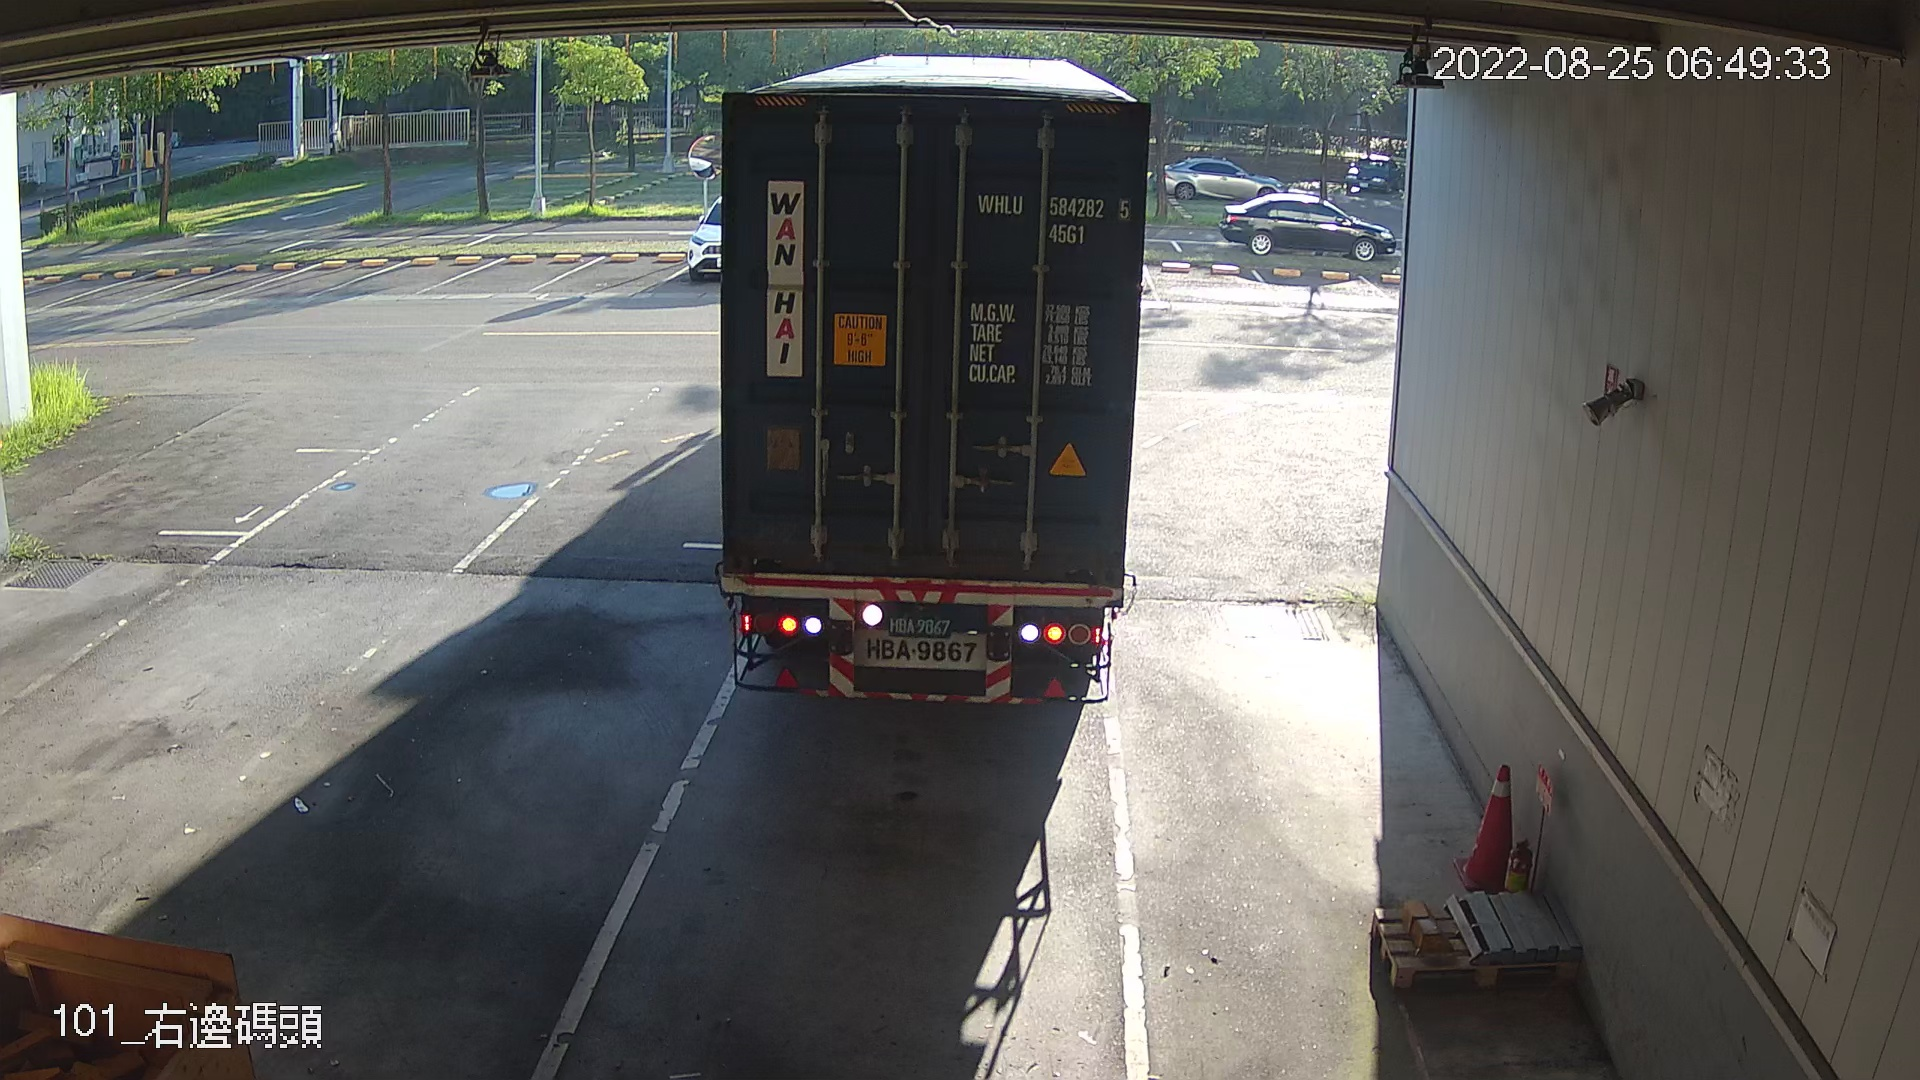container: (969, 182, 1135, 255)
